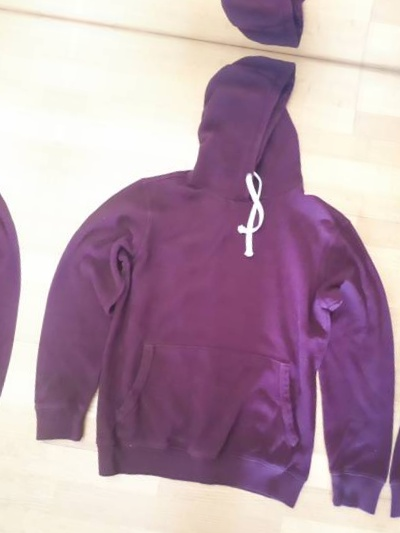Hoodie: (12, 32, 400, 517), (0, 0, 70, 458), (83, 0, 400, 68), (390, 92, 400, 533), (0, 0, 141, 9)
